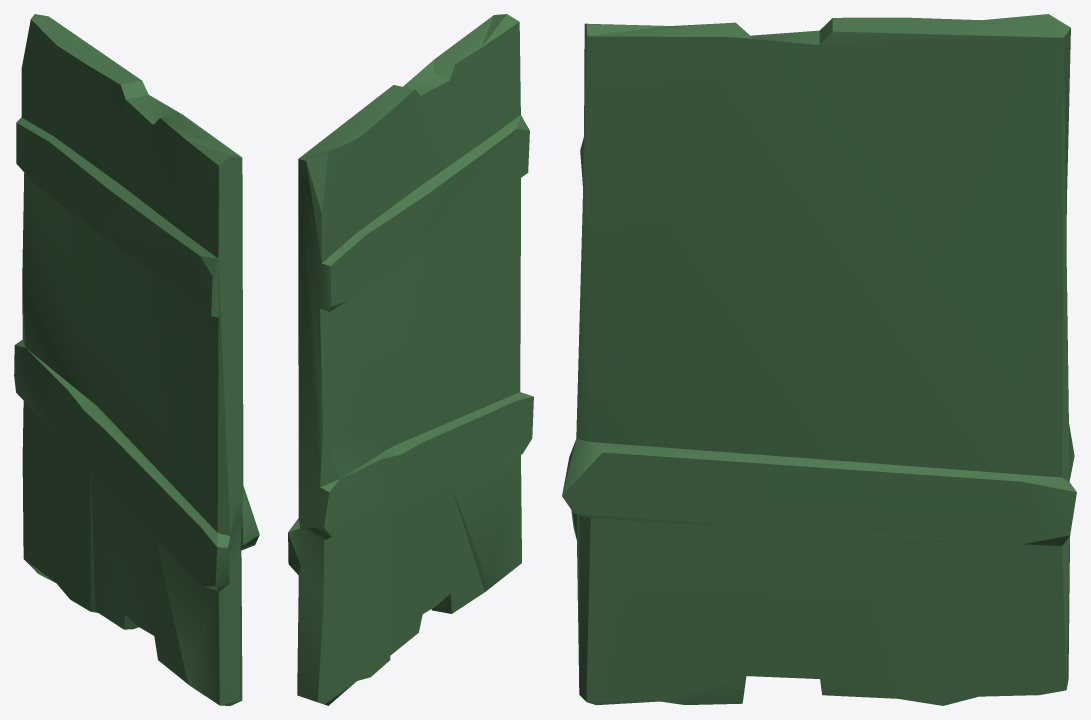
File: SM_woodenplanksbundle.fbx
3 renders of one model, left to right at view 1: azimuth 30°, elevation 25°; view 2: azimuth 150°, elevation 25°; view 3: azimuth 270°, elevation 25°, orthographic. The views are drawn at different scales.
Visible parts, largest first — view 1: SM_woodenplanksbundle; view 2: SM_woodenplanksbundle; view 3: SM_woodenplanksbundle.
Part boxes in pixels (<box>): SM_woodenplanksbundle: <box>14,14,259,705</box>; SM_woodenplanksbundle: <box>288,14,533,705</box>; SM_woodenplanksbundle: <box>562,14,1076,705</box>.
Bounding box in the file's own units: 7.73 × 99.14 × 67.85.
